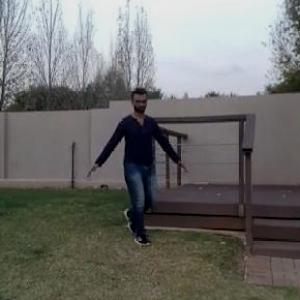land: (85, 84, 188, 262)
